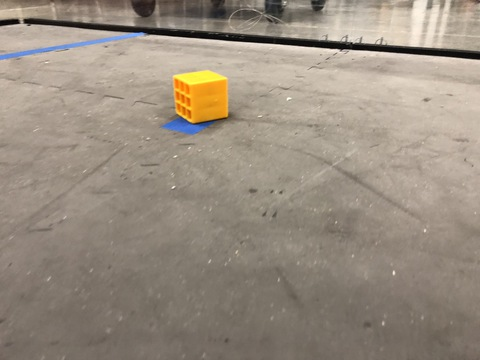block: (153, 61, 244, 134)
